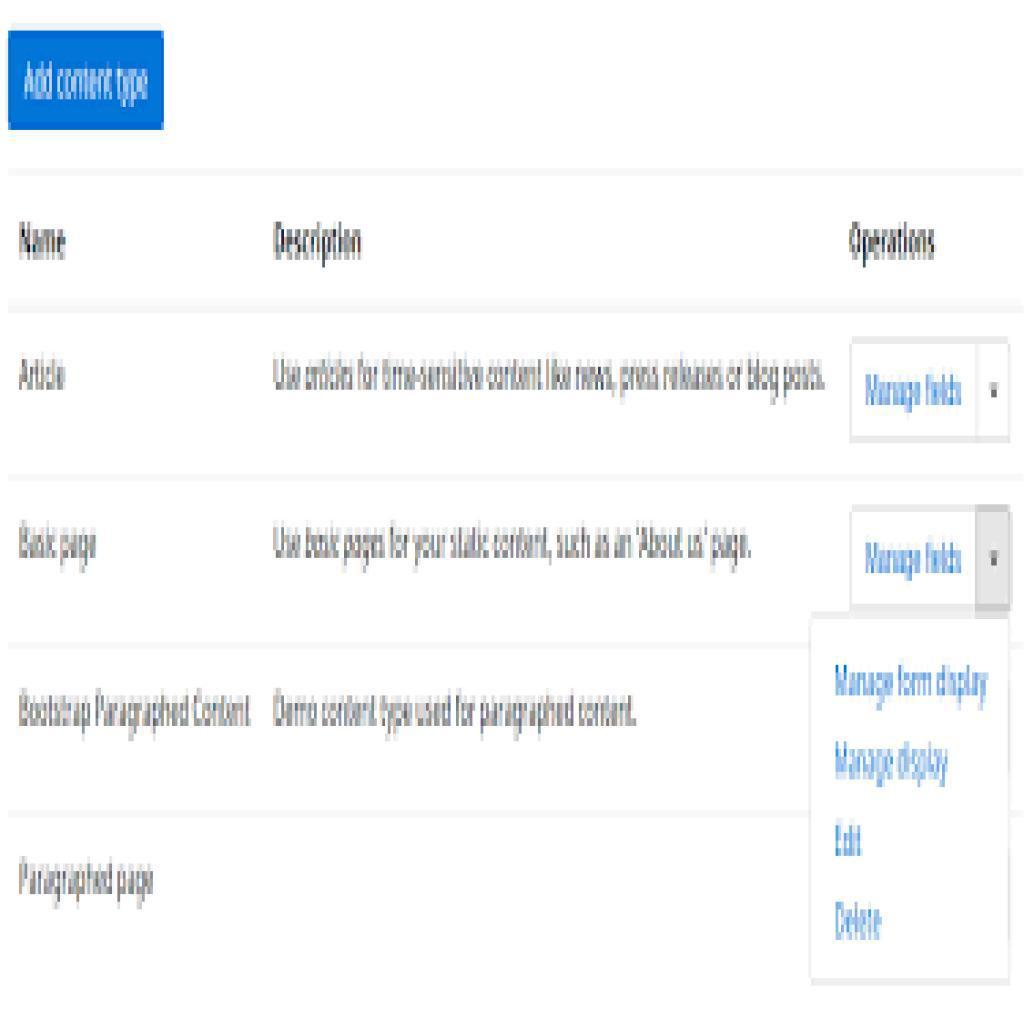button: (9, 33, 166, 128)
dropdown: (850, 503, 1016, 614), (849, 341, 1011, 443)
